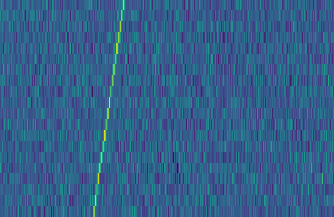signal: (86, 0, 127, 217)
